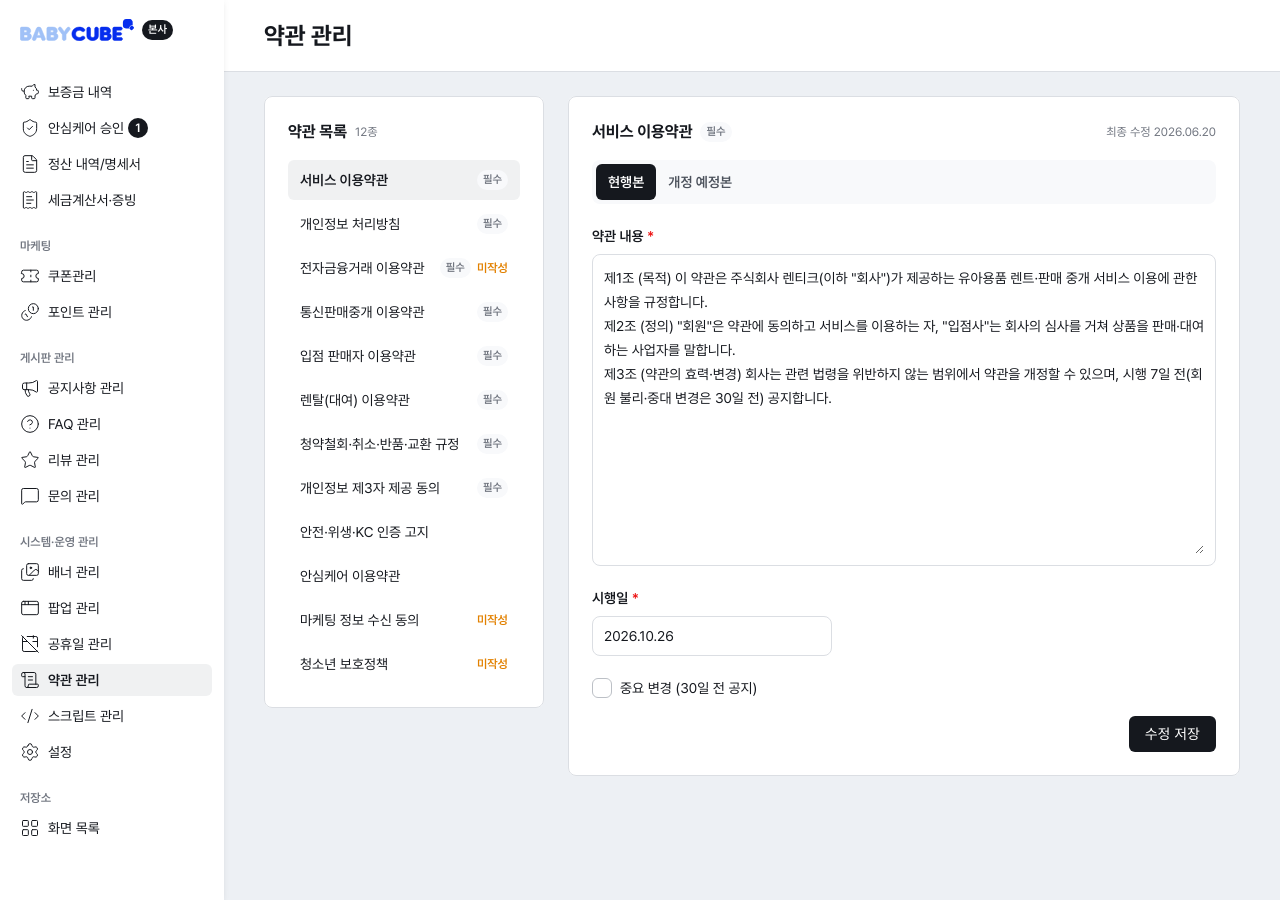
TermsAdminPage › 우측 편집 카드 헤더 › 고른 문서의 이름과 최종 수정일(점 표기)을 든다
(page scrolled)
expect the heading "서비스 이용약관 필수" is shown: met, box [592, 122, 732, 142]
expect the text "최종 수정 2026.06.20" is shown: met, box [1106, 124, 1216, 140]
Step 1. Click the button "렌탈(대여) 이용약관 필수" → (404,400), box [288, 380, 520, 420]
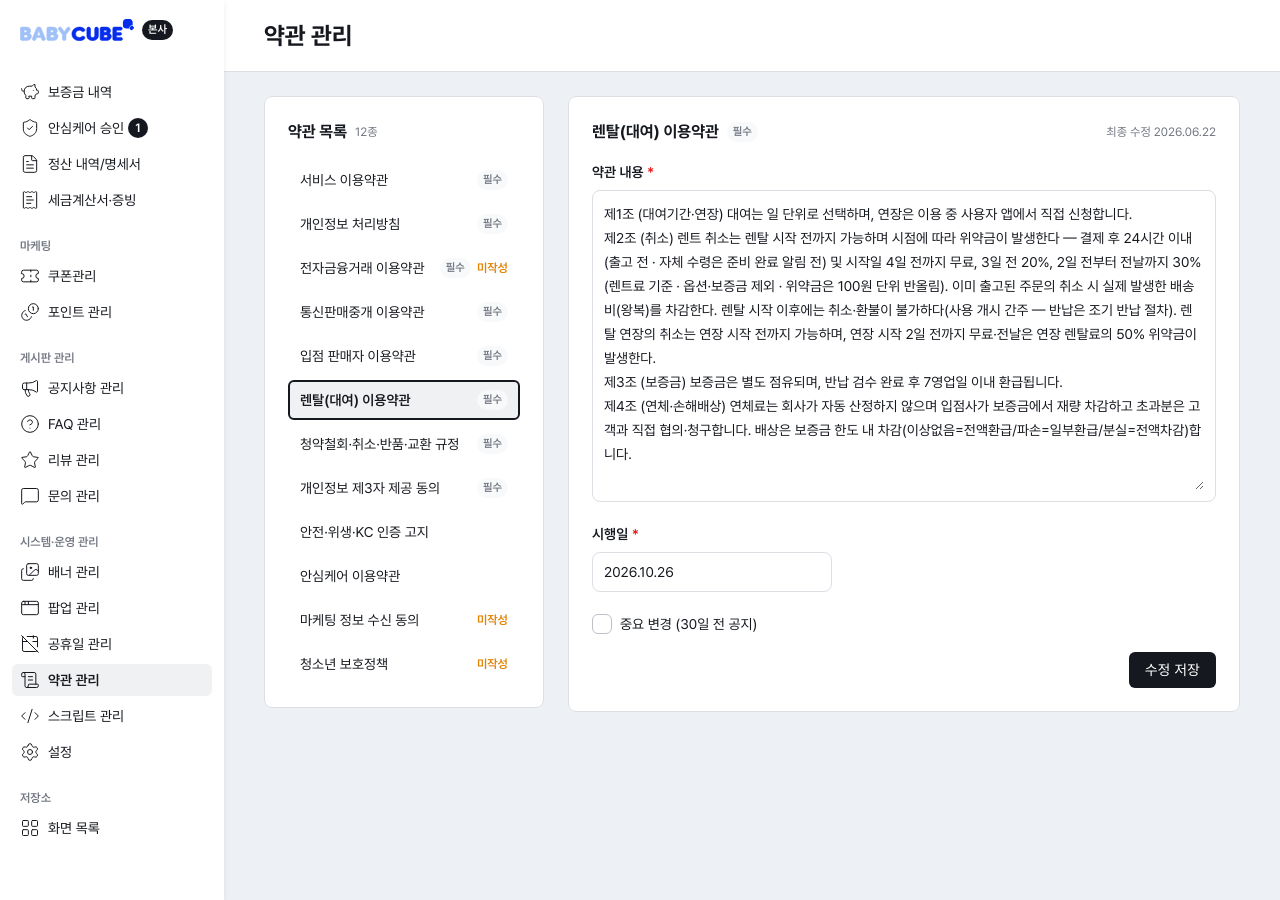
expect the text "최종 수정 2026.06.22" is shown: met, box [1106, 124, 1216, 140]
